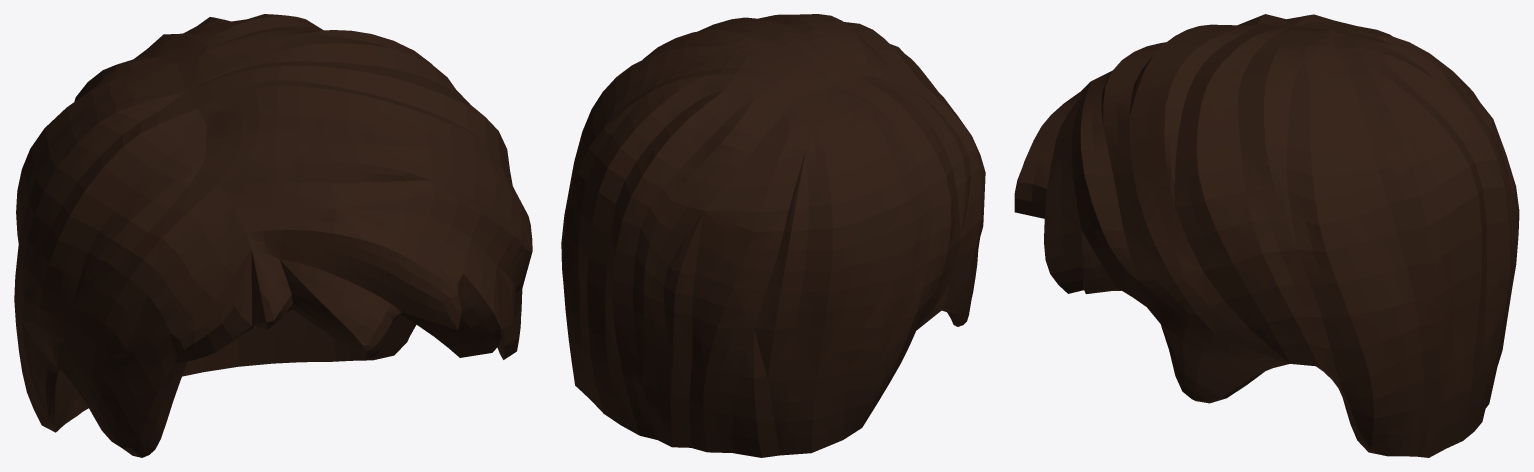
The model's file is hair.glb.
3 views of the same model, side by side, from view 1: azimuth 30°, elevation 25°; view 2: azimuth 150°, elevation 25°; view 3: azimuth 270°, elevation 25° (orthographic). The views are drawn at different scales.
Visible parts, largest first — view 1: Object_20.001; view 2: Object_20.001; view 3: Object_20.001.
Boxes of the visible parts, x1,y1,x2,y2 form: Object_20.001: [14, 14, 532, 457]; Object_20.001: [561, 14, 985, 457]; Object_20.001: [1014, 14, 1519, 457].
Bounding box in the file's own units: 0.5076 × 0.4476 × 0.5651.
